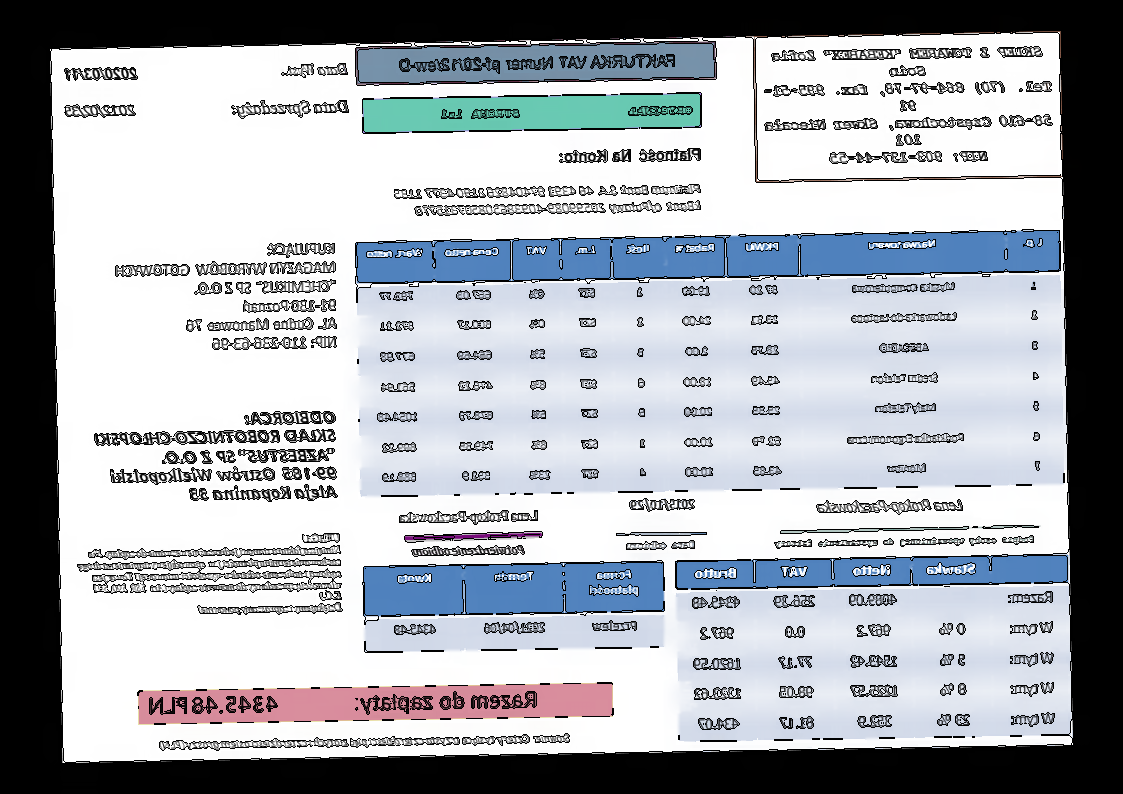Table: (354, 229, 1067, 499), (674, 553, 1072, 744), (361, 560, 666, 653)
TextBox: (760, 44, 1057, 166), (112, 238, 340, 354), (74, 530, 344, 620), (92, 408, 339, 506), (392, 180, 705, 219), (148, 688, 538, 719), (157, 731, 572, 752), (395, 49, 679, 77), (437, 102, 694, 122), (773, 534, 1037, 550), (815, 496, 965, 517), (557, 145, 703, 166), (399, 506, 542, 526), (228, 98, 351, 119), (411, 542, 527, 558), (63, 65, 139, 83), (279, 60, 349, 79), (628, 495, 696, 514), (64, 102, 138, 119), (625, 538, 697, 553)
